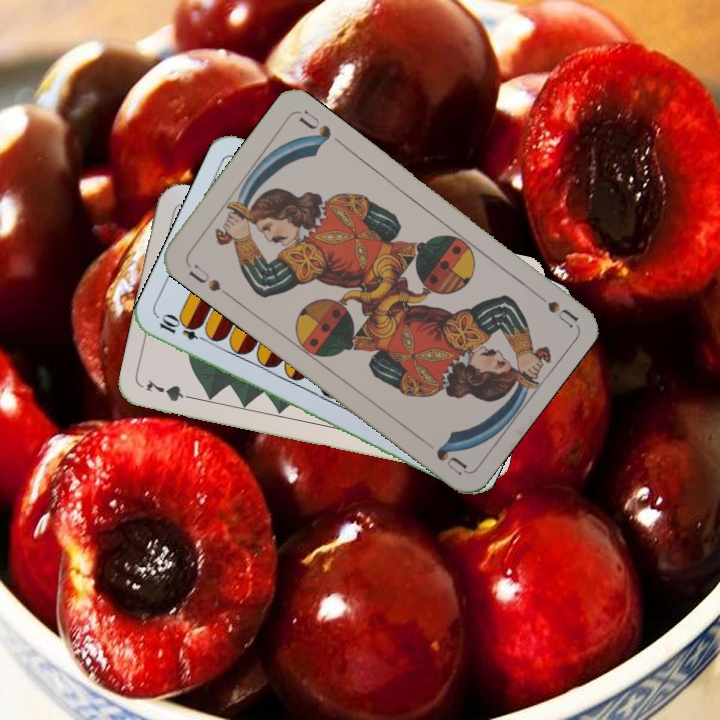E10: (155, 312, 213, 346)
G7: (141, 376, 200, 404)
SU: (526, 285, 580, 329), (184, 260, 233, 300)
